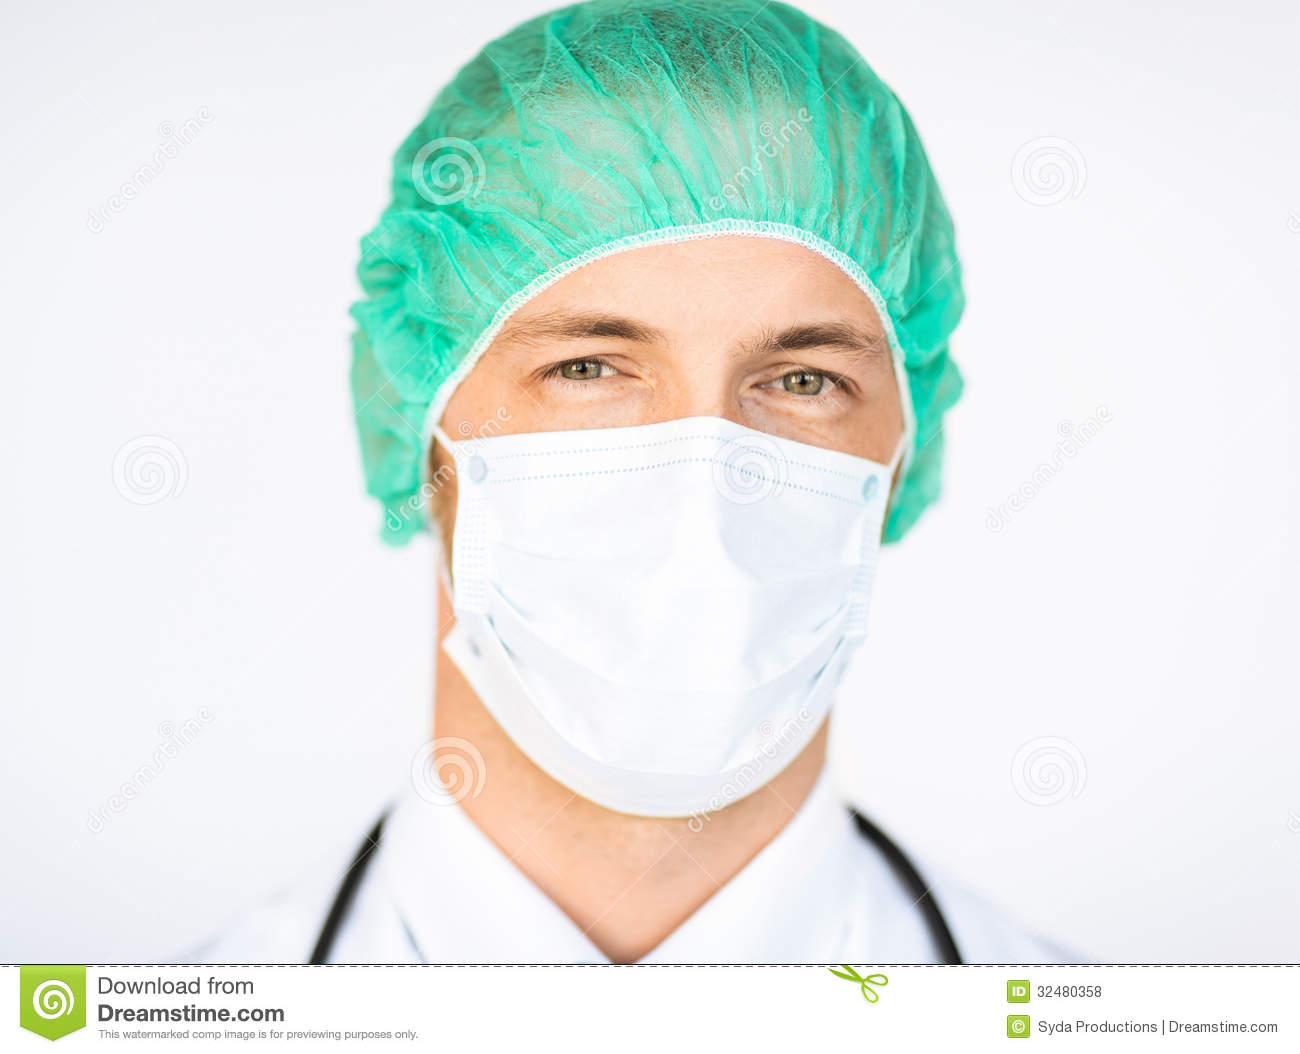mask: (433, 431, 890, 792)
